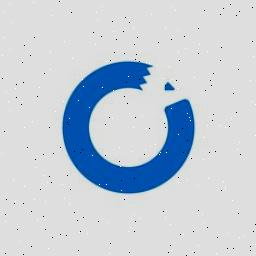o: (46, 48, 214, 206)
